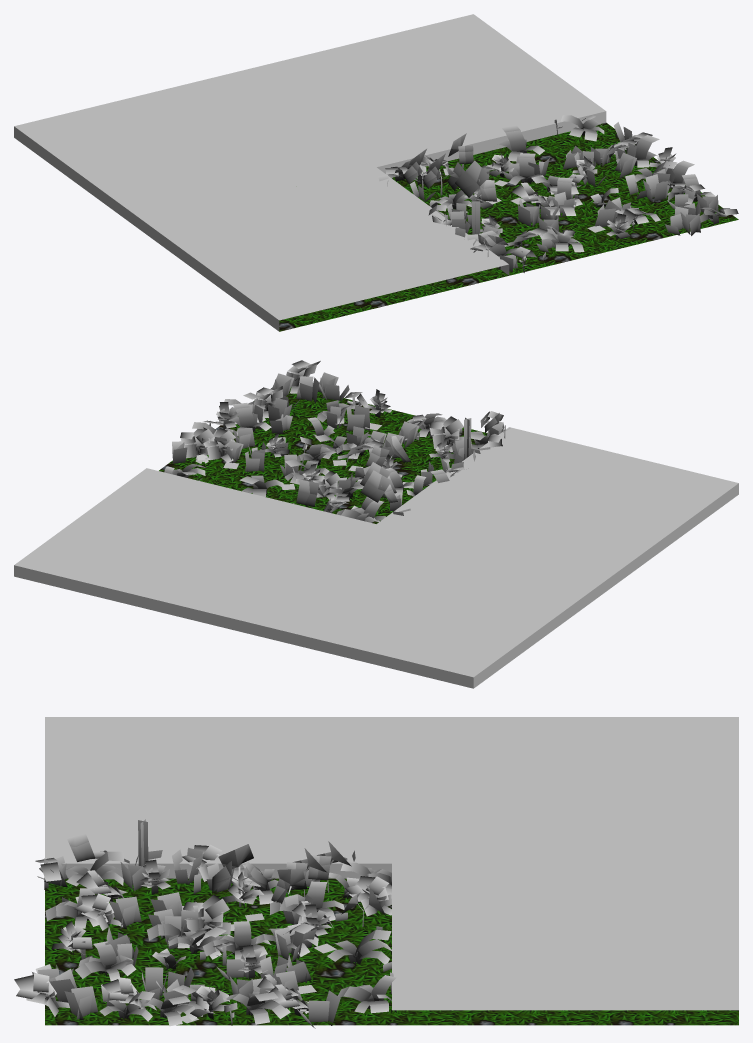
Rendered from WalkGrassCorner.fbx.
3 views of the same model, one above another, from view 1: azimuth 30°, elevation 25°; view 2: azimuth 150°, elevation 25°; view 3: azimuth 270°, elevation 25° (orthographic). The views are drawn at different scales.
Parts seen in each view (by area): view 1: WalkGrassCorner.001; view 2: WalkGrassCorner.001; view 3: WalkGrassCorner.001.
Boxes of the visible parts, bbox=[...] form: WalkGrassCorner.001: bbox=[14, 14, 738, 331]; WalkGrassCorner.001: bbox=[14, 360, 738, 688]; WalkGrassCorner.001: bbox=[14, 717, 738, 1028].
Bounding box in the file's own units: 5.09 × 0.5344 × 5.22.
